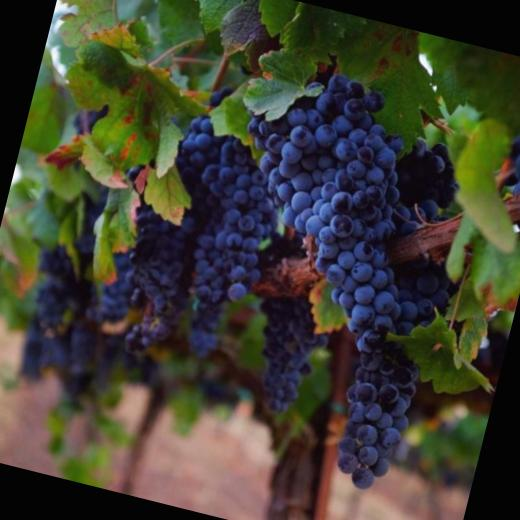Orange: (300, 117, 490, 500), (196, 50, 428, 354), (131, 75, 309, 369), (83, 102, 228, 364), (234, 230, 352, 420), (19, 232, 104, 348), (481, 87, 520, 240)
